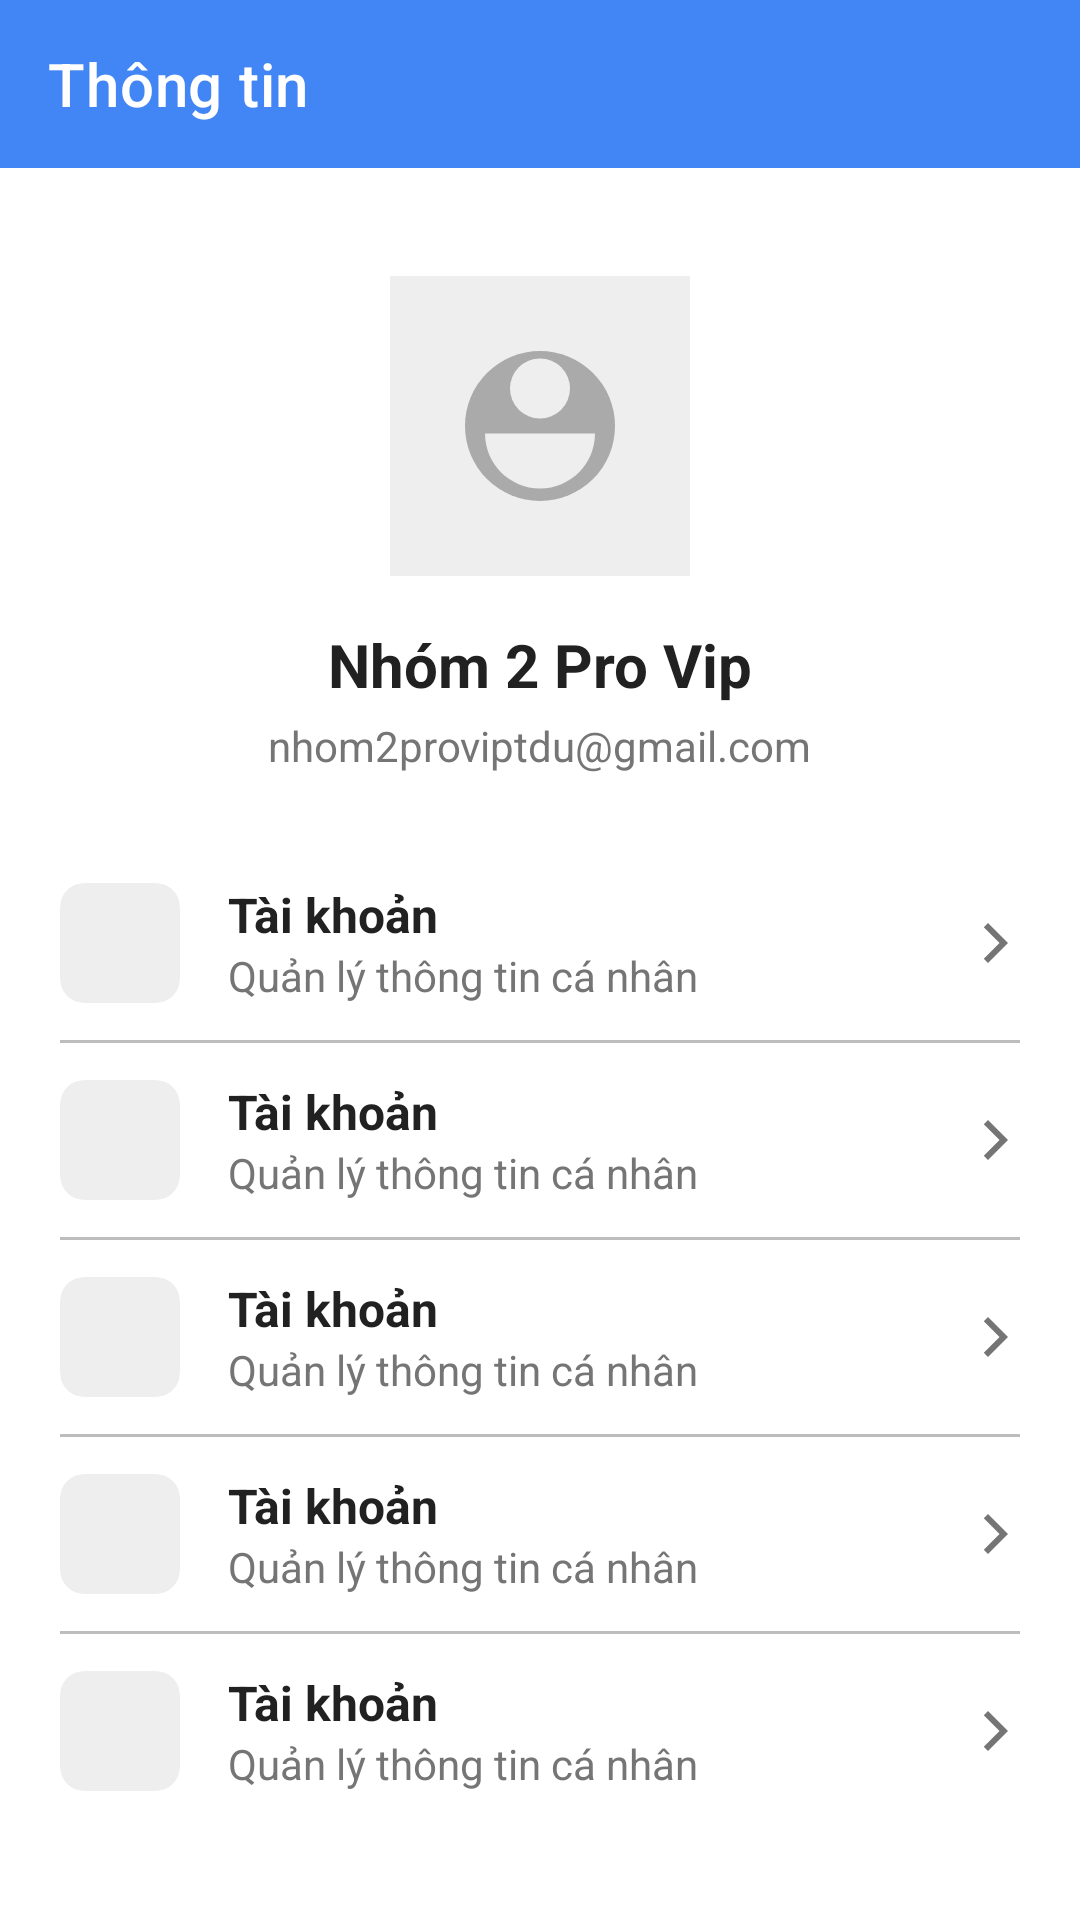

Screen size 1080 x 1920. Icon name, then its center in pixels as [x,y]:
Arrow icon: [996,943], [996,1140], [996,1337], [996,1534], [996,1731]
